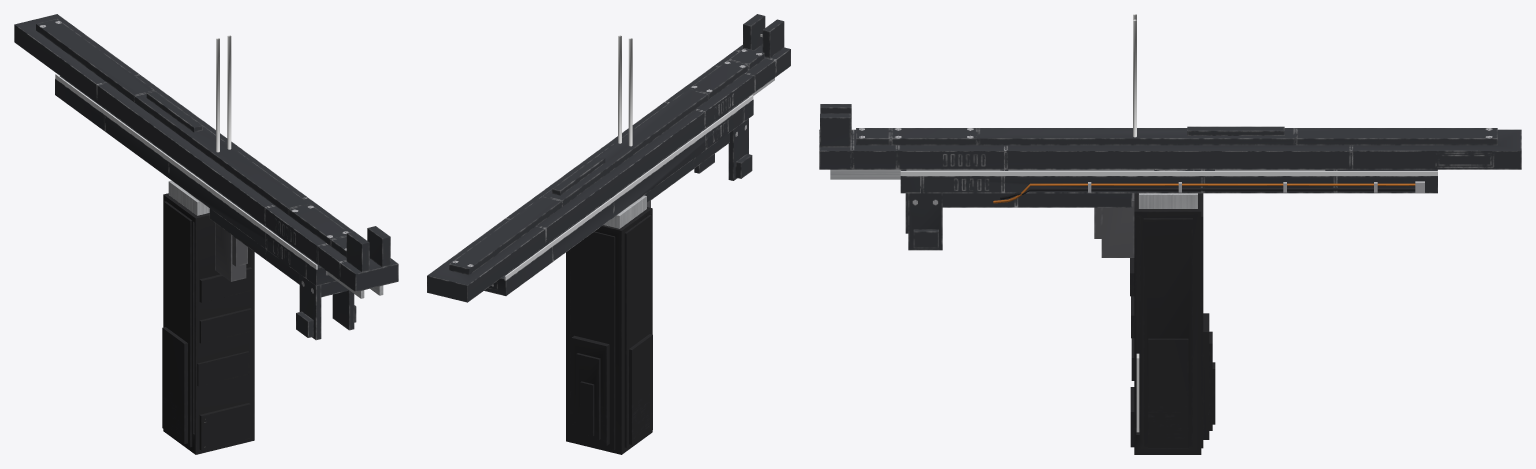
Rendered from TGun.fbx.
The picture shows the model from 3 angles, left to right: view 1: azimuth 30°, elevation 25°; view 2: azimuth 150°, elevation 25°; view 3: azimuth 270°, elevation 25°; orthographic projection. The views are drawn at different scales.
Parts seen in each view (by area): view 1: Receiver, Upper, Receiver_Seam, Receiver_EnergyBeams; view 2: Receiver, Upper, Receiver_Seam, Receiver_EnergyBeams; view 3: Receiver, Upper, Receiver_Wires, Receiver_Seam.
Part boxes in pixels (bbox=[...]): Receiver: bbox=[55, 76, 356, 454]; Upper: bbox=[14, 14, 398, 298]; Receiver_Seam: bbox=[55, 74, 317, 269]; Receiver_EnergyBeams: bbox=[216, 35, 231, 152]; Receiver: bbox=[484, 97, 753, 454]; Upper: bbox=[427, 14, 790, 302]; Receiver_Seam: bbox=[504, 95, 753, 280]; Receiver_EnergyBeams: bbox=[618, 35, 632, 146]; Receiver: bbox=[900, 169, 1437, 454]; Upper: bbox=[819, 104, 1521, 179]; Receiver_Wires: bbox=[993, 181, 1424, 203]; Receiver_Seam: bbox=[900, 171, 1437, 175].
Size of the model in its own units: 0.0292 by 0.1668 by 0.2515.
Materials: 8 (1 with a texture image).
